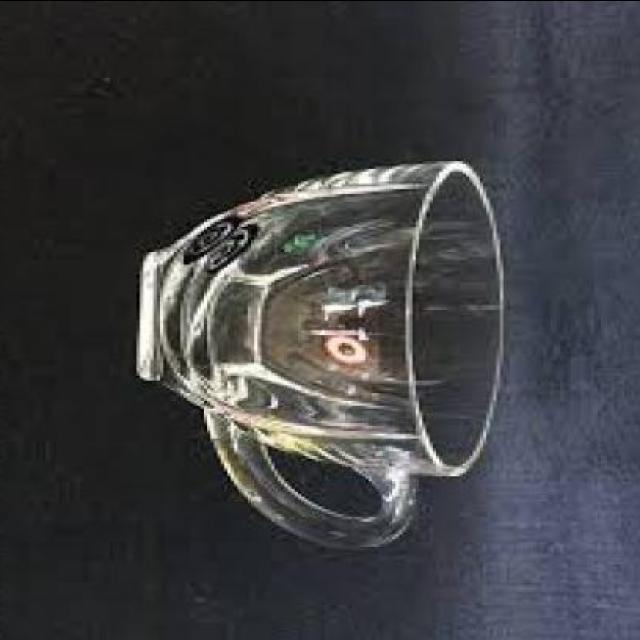kaca: (139, 160, 506, 550)
